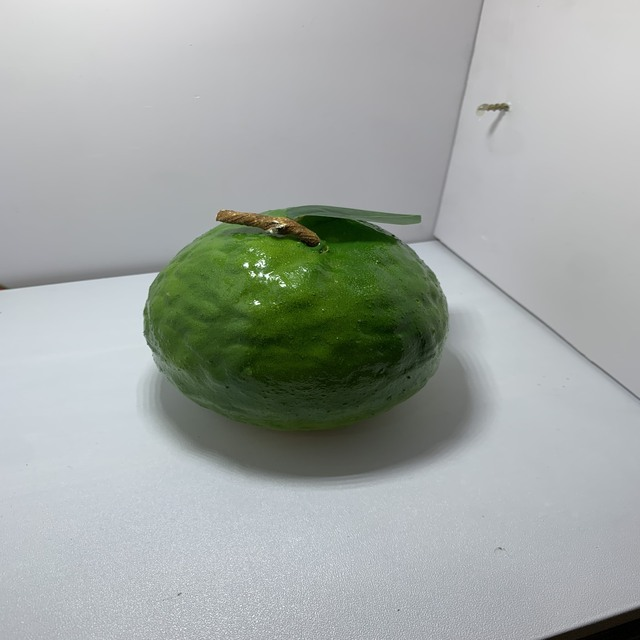Cam xanh: (136, 200, 452, 442)
